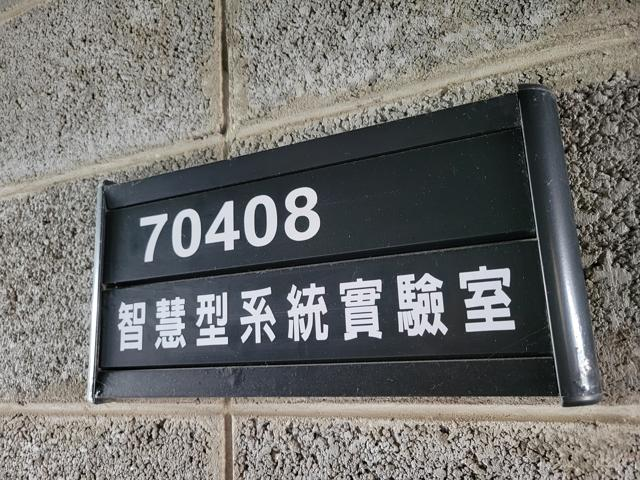doorplate: (78, 77, 608, 411)
